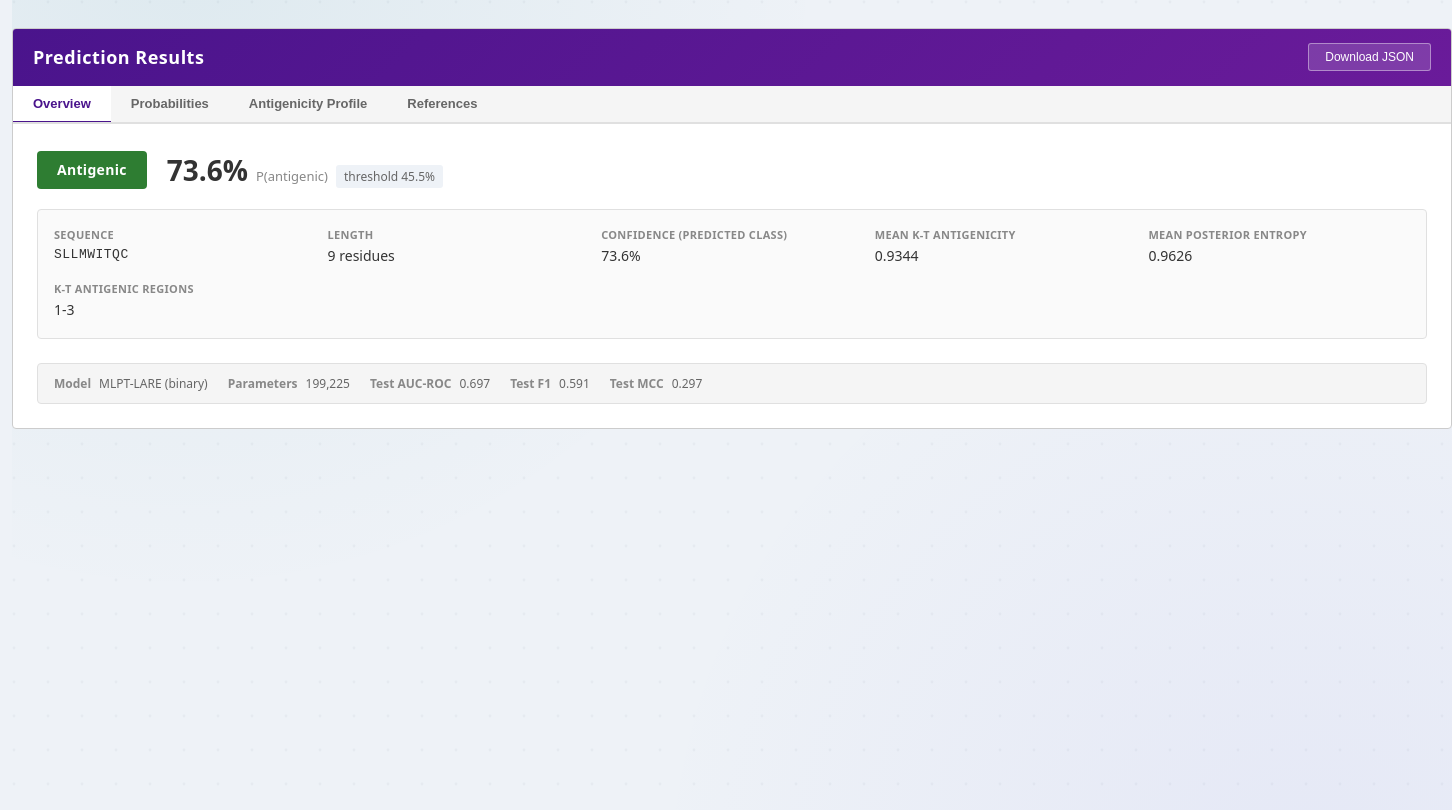
Test: AntigenicResults (binary MLPT-LARE) › shows the two-class probability distribution
The width and height of the screenshot is (1452, 810).
Click the button "Probabilities".
click(170, 105)  # box [111,86,229,124]
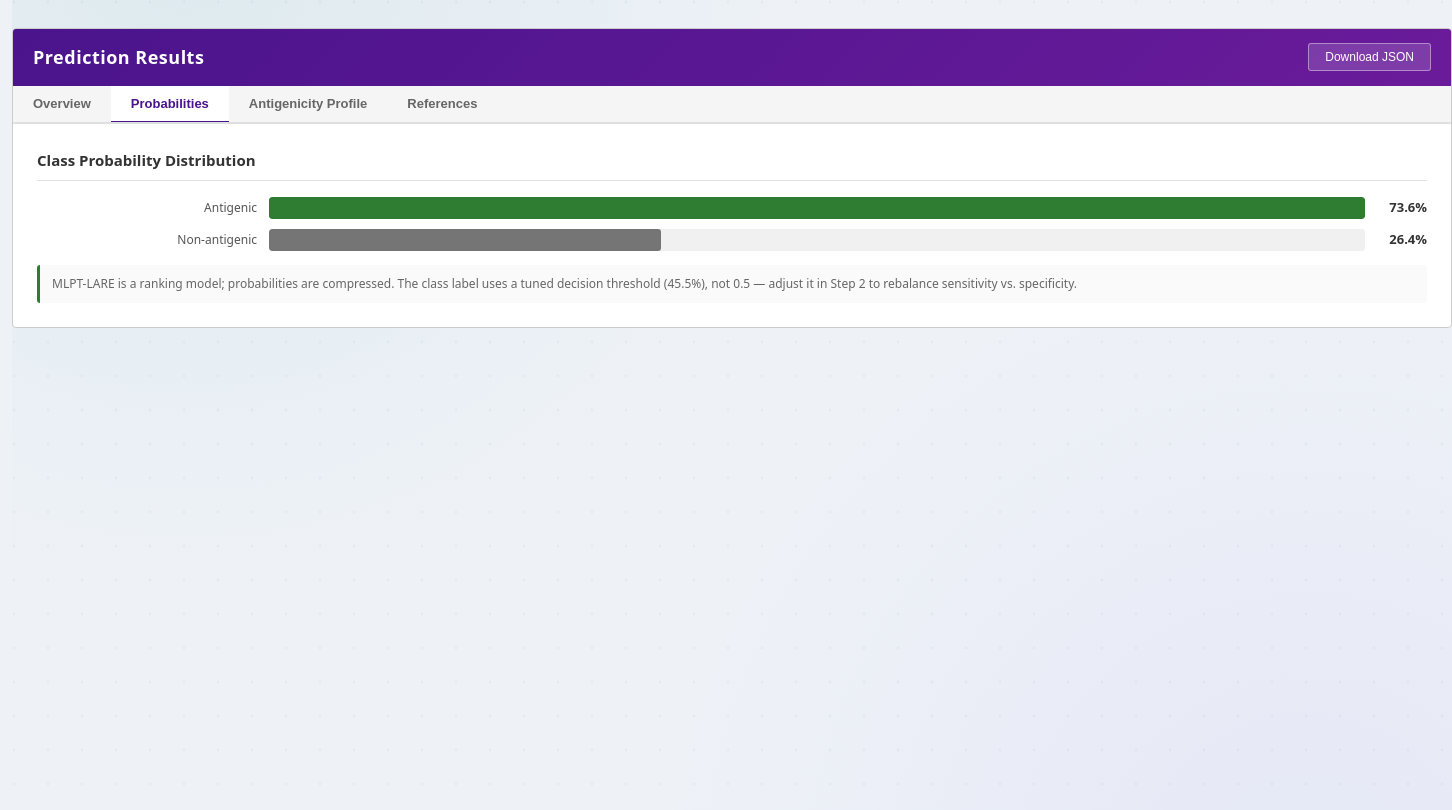
Check: the heading "Class Probability Distribution" is shown, box [37,148,1427,181]
Check: the text "Non-antigenic" is shown, box [177,231,257,248]
